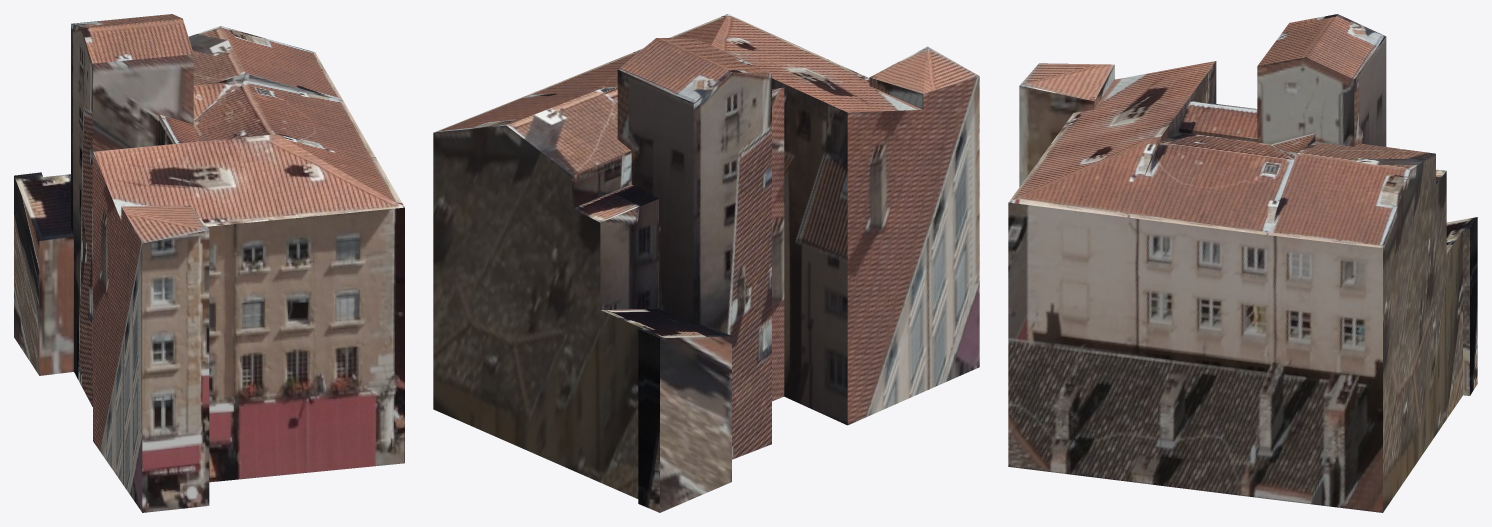
The picture shows the model from 3 angles, left to right: view 1: azimuth 30°, elevation 25°; view 2: azimuth 150°, elevation 25°; view 3: azimuth 270°, elevation 25°; orthographic projection. The views are drawn at different scales.
Parts seen in each view (by area): view 1: Z_UP; view 2: Z_UP; view 3: Z_UP.
Boxes of the visible parts, box(x1,y1,x2,y2) form: Z_UP: box(14, 14, 404, 512); Z_UP: box(433, 14, 979, 512); Z_UP: box(1008, 14, 1477, 512).
Bounding box in the file's own units: 22.02 × 22.23 × 25.52.
2 materials, 1 textured.
